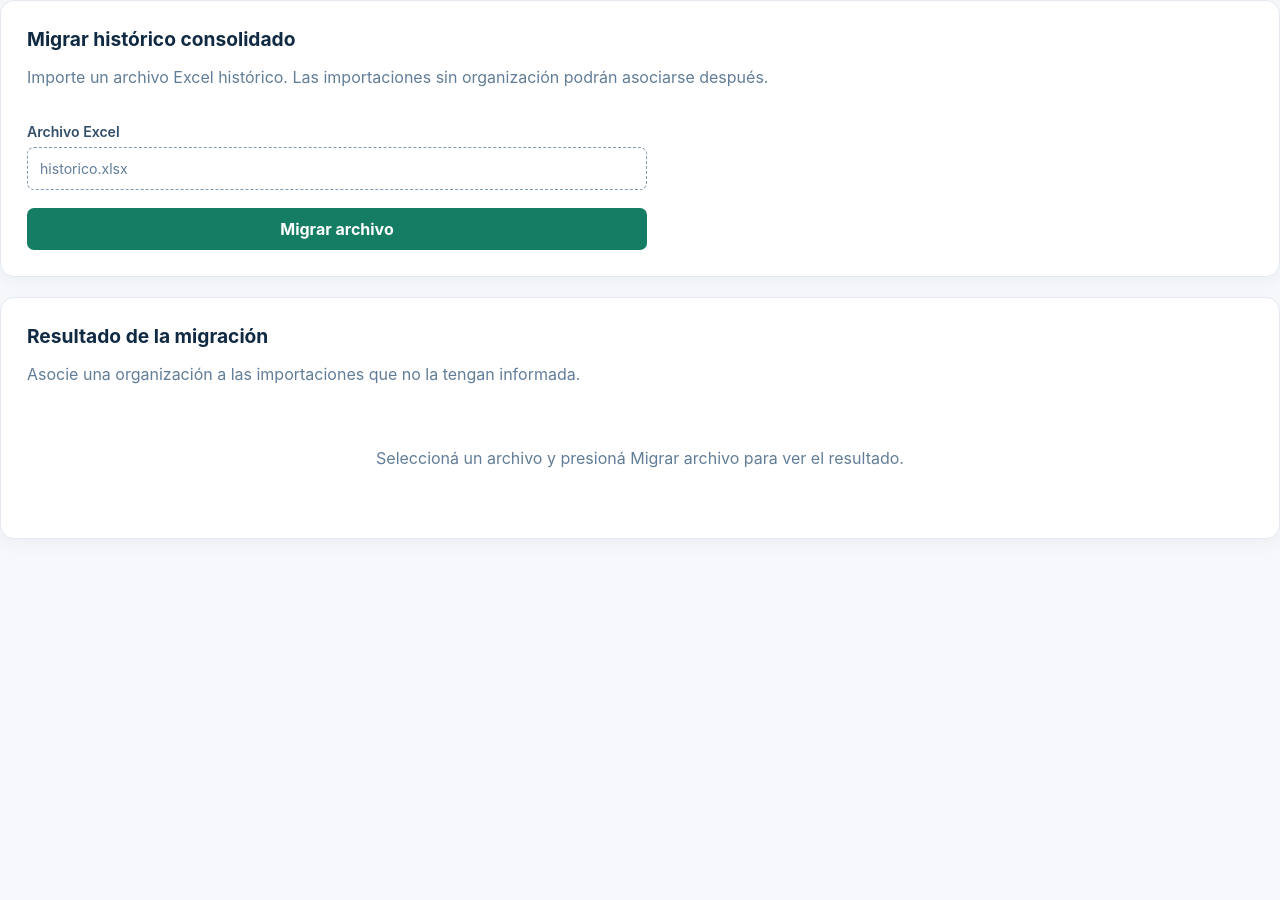
Test: Migration › muestra la acción solo para importaciones sin organización y conserva hospital y UDEO
The width and height of the screenshot is (1280, 900).
Earlier steps of the test are not shown.
What coordinates should you click on to do the following:
click the button "Migrar archivo"
I would click on:
 (337, 229)
Its box is x1=27 y1=208 x2=647 y2=250.
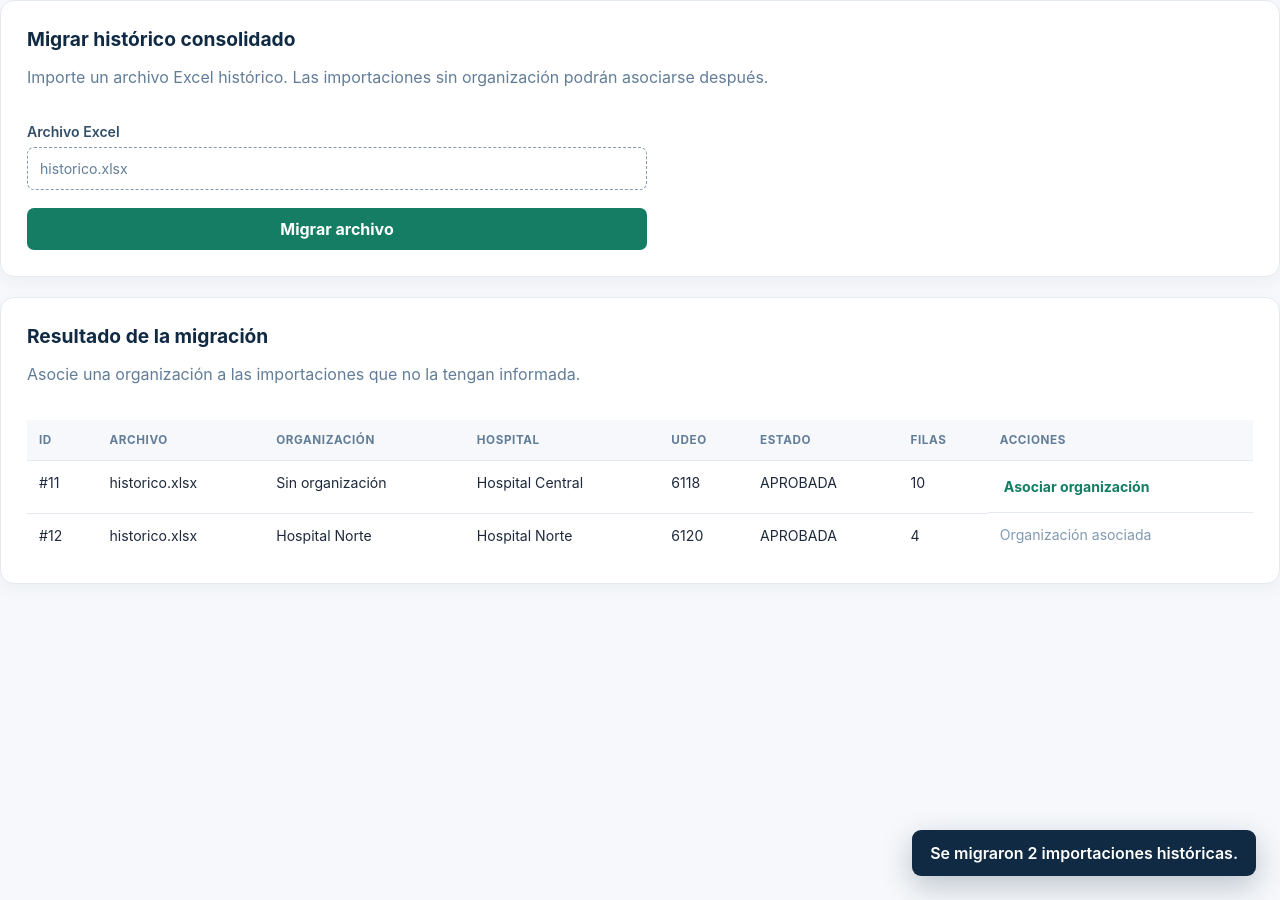
Check: the text "Hospital Central" is shown, box x1=465 y1=460 x2=659 y2=513
Check: the text "6118" is shown, box x1=659 y1=460 x2=748 y2=513
Check: the text "Sin organización" is shown, box x1=264 y1=460 x2=465 y2=513
